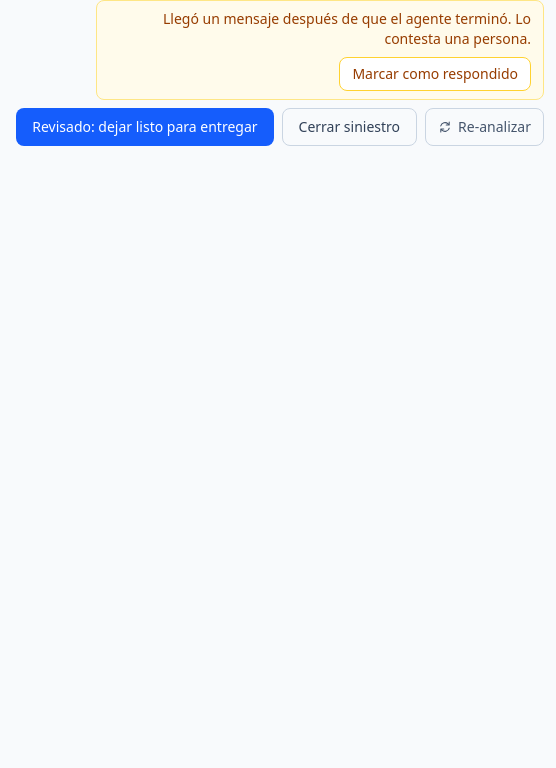
it: «Para responder» en el detalle › en es-AR, con actualizado=false, manda cuándo lo vio y avisa «El caso cambió mientras lo mirabas. Revisalo de nuevo.»
What coordinates should you click on to do the following:
click the button "Marcar como respondido"
I would click on:
 (435, 74)
Its box is top-left (339, 57), bottom-right (531, 91).
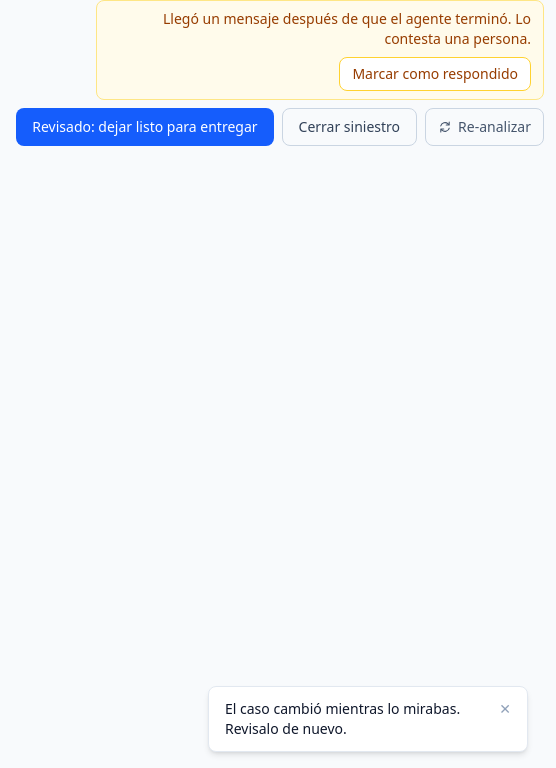
Result: the text "El caso cambió mientras lo mirabas. Revisalo de nuevo." is shown at top-left (225, 699), bottom-right (479, 739)
